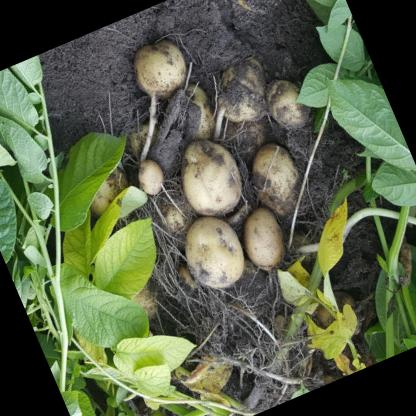potato: (166, 127, 254, 226), (173, 208, 254, 298), (239, 136, 313, 224), (204, 50, 282, 132), (123, 32, 197, 109), (232, 200, 296, 278), (258, 70, 314, 136)
